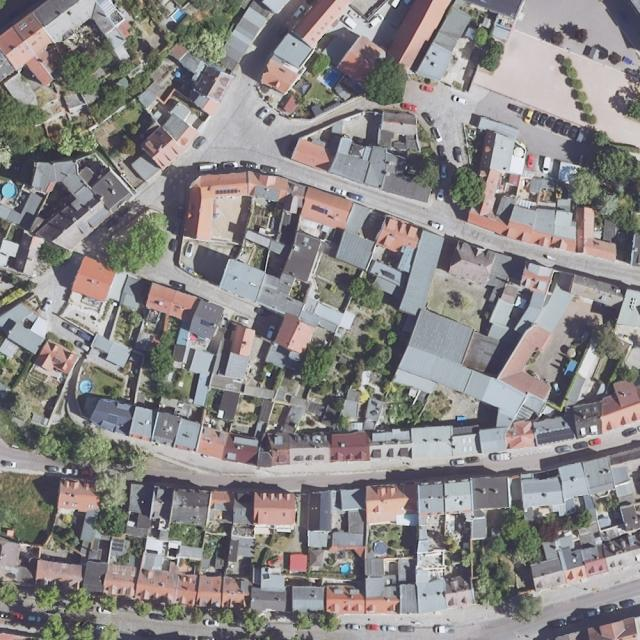ST: (537, 428, 575, 445), (516, 407, 533, 421), (311, 204, 329, 215), (111, 539, 125, 552), (214, 188, 237, 195), (105, 413, 118, 425), (200, 319, 212, 328)
